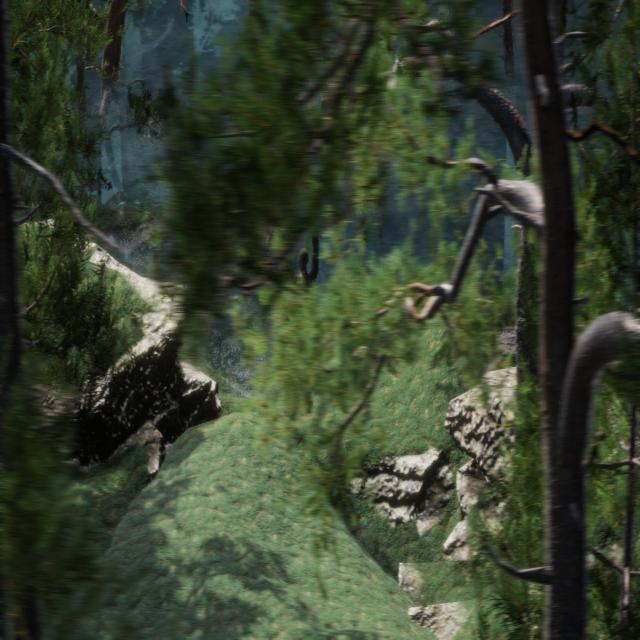Human: (273, 206, 327, 427)
